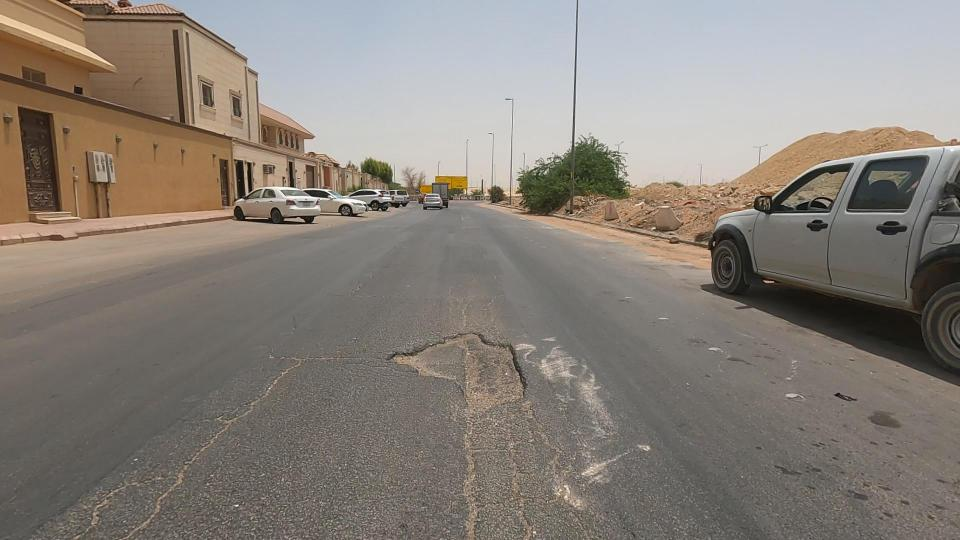POTHOLES: (310, 276, 622, 479)
